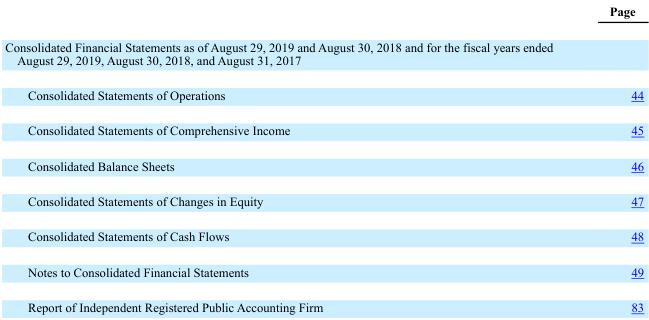table: (4, 4, 643, 313)
table column: (4, 4, 465, 313), (465, 4, 643, 313)
table column header: (4, 4, 643, 28)
table projected row header: (4, 28, 643, 77)
table row: (4, 28, 643, 77), (4, 147, 643, 183), (4, 253, 643, 289), (4, 77, 643, 112), (4, 112, 643, 147), (4, 183, 643, 218), (4, 218, 643, 253), (4, 4, 643, 28), (4, 289, 643, 313)
